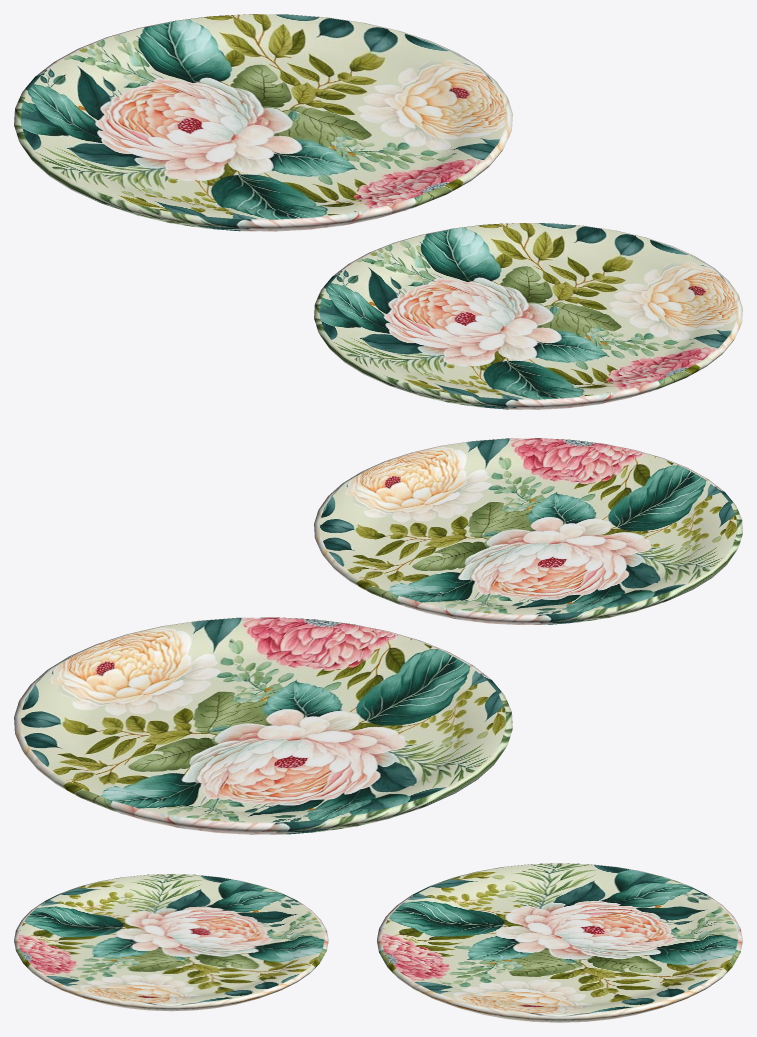
The model's file is Plate 2.fbx.
3 renders of one model, top to bottom at view 1: azimuth 30°, elevation 25°; view 2: azimuth 150°, elevation 25°; view 3: azimuth 270°, elevation 25°, orthographic. The views are drawn at different scales.
Visible parts, largest first — view 1: pCylinder4, pCylinder5; view 2: pCylinder4, pCylinder5; view 3: pCylinder4, pCylinder5.
Part boxes in pixels (box(x1,y1,x2,y2)): pCylinder4: box(14, 14, 512, 231); pCylinder5: box(314, 223, 742, 409); pCylinder4: box(14, 617, 512, 834); pCylinder5: box(314, 438, 742, 624); pCylinder4: box(377, 863, 742, 1022); pCylinder5: box(14, 874, 328, 1011).
Size of the model in its own units: 3.84 by 0.1721 by 7.64.
Materials: 1 (1 with a texture image).
